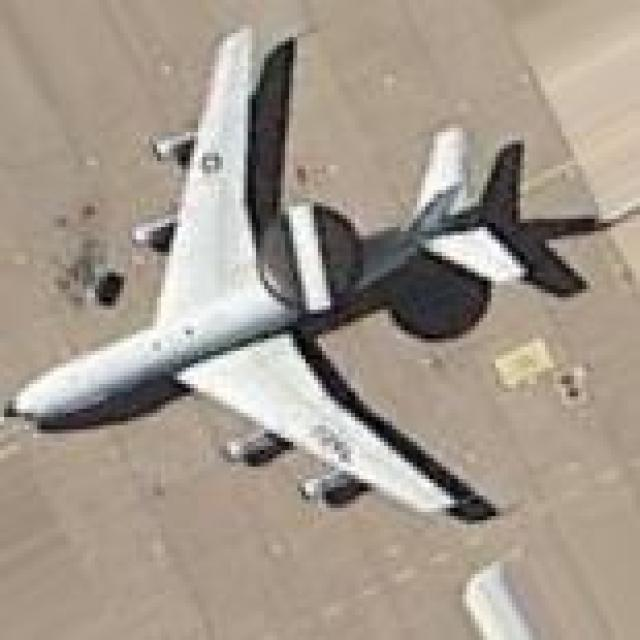E-3_TopDown: (0, 21, 636, 524)
